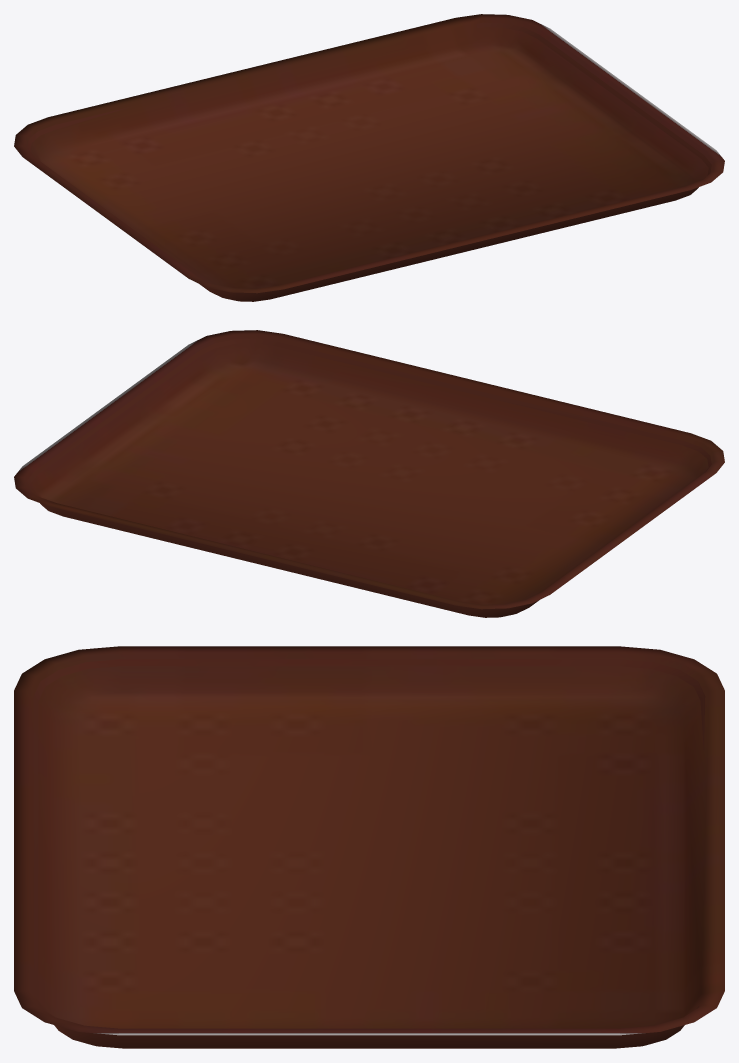
File: bw-tray.lod1.glb
3 renders of one model, top to bottom at view 1: azimuth 30°, elevation 25°; view 2: azimuth 150°, elevation 25°; view 3: azimuth 270°, elevation 25°, orthographic. The views are drawn at different scales.
Parts seen in each view (by area): view 1: Object_4; view 2: Object_4; view 3: Object_4.
Boxes of the visible parts, x1,y1,x2,y2 form: Object_4: [14, 14, 724, 301]; Object_4: [14, 330, 724, 617]; Object_4: [14, 646, 724, 1048].
Size of the model in its own units: 0.45 by 0.0179 by 0.3477.
1 material, 1 textured.
